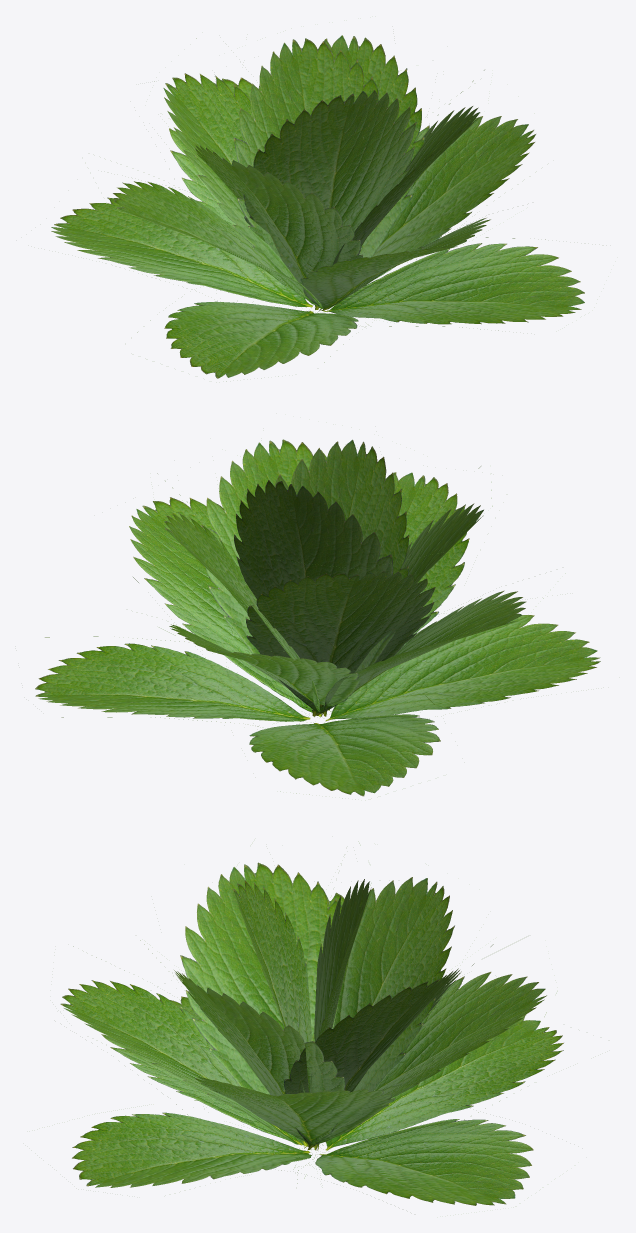
The model's file is plant23.FBX.
3 views of the same model, one above another, from view 1: azimuth 30°, elevation 25°; view 2: azimuth 150°, elevation 25°; view 3: azimuth 270°, elevation 25° (orthographic). The views are drawn at different scales.
Parts seen in each view (by area): view 1: plant23; view 2: plant23; view 3: plant23.
Boxes of the visible parts, box(x1,y1,x2,y2) form: plant23: box(51, 35, 584, 381); plant23: box(35, 439, 600, 799); plant23: box(60, 841, 563, 1205).
Size of the model in its own units: 1.39 by 0.6991 by 1.39.
